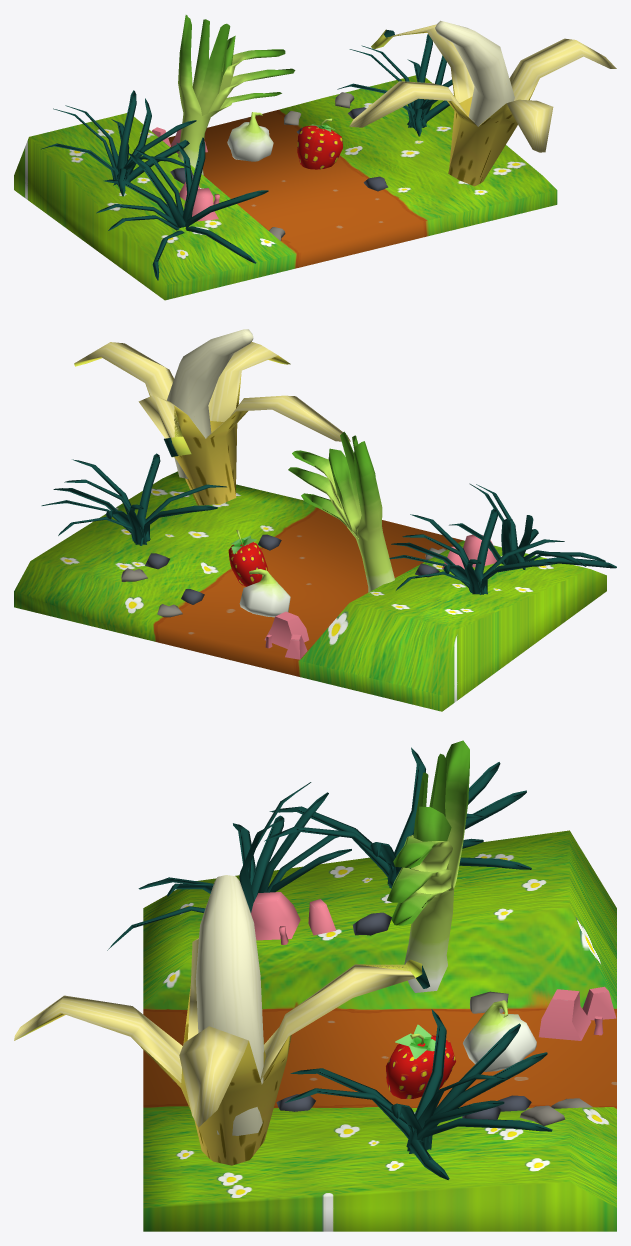
File: D_block_02.FBX
3 renders of one model, top to bottom at view 1: azimuth 30°, elevation 25°; view 2: azimuth 150°, elevation 25°; view 3: azimuth 270°, elevation 25°, orthographic. The views are drawn at different scales.
Parts seen in each view (by area): view 1: biome_02; view 2: biome_02; view 3: biome_02.
Part boxes in pixels (x1=…): biome_02: x1=14, y1=15, x2=616, y2=300; biome_02: x1=14, y1=329, x2=616, y2=711; biome_02: x1=14, y1=740, x2=616, y2=1231.
Size of the model in its own units: 11.66 by 4.05 by 7.63.
